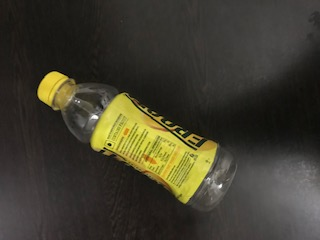bottle: (34, 65, 230, 217)
